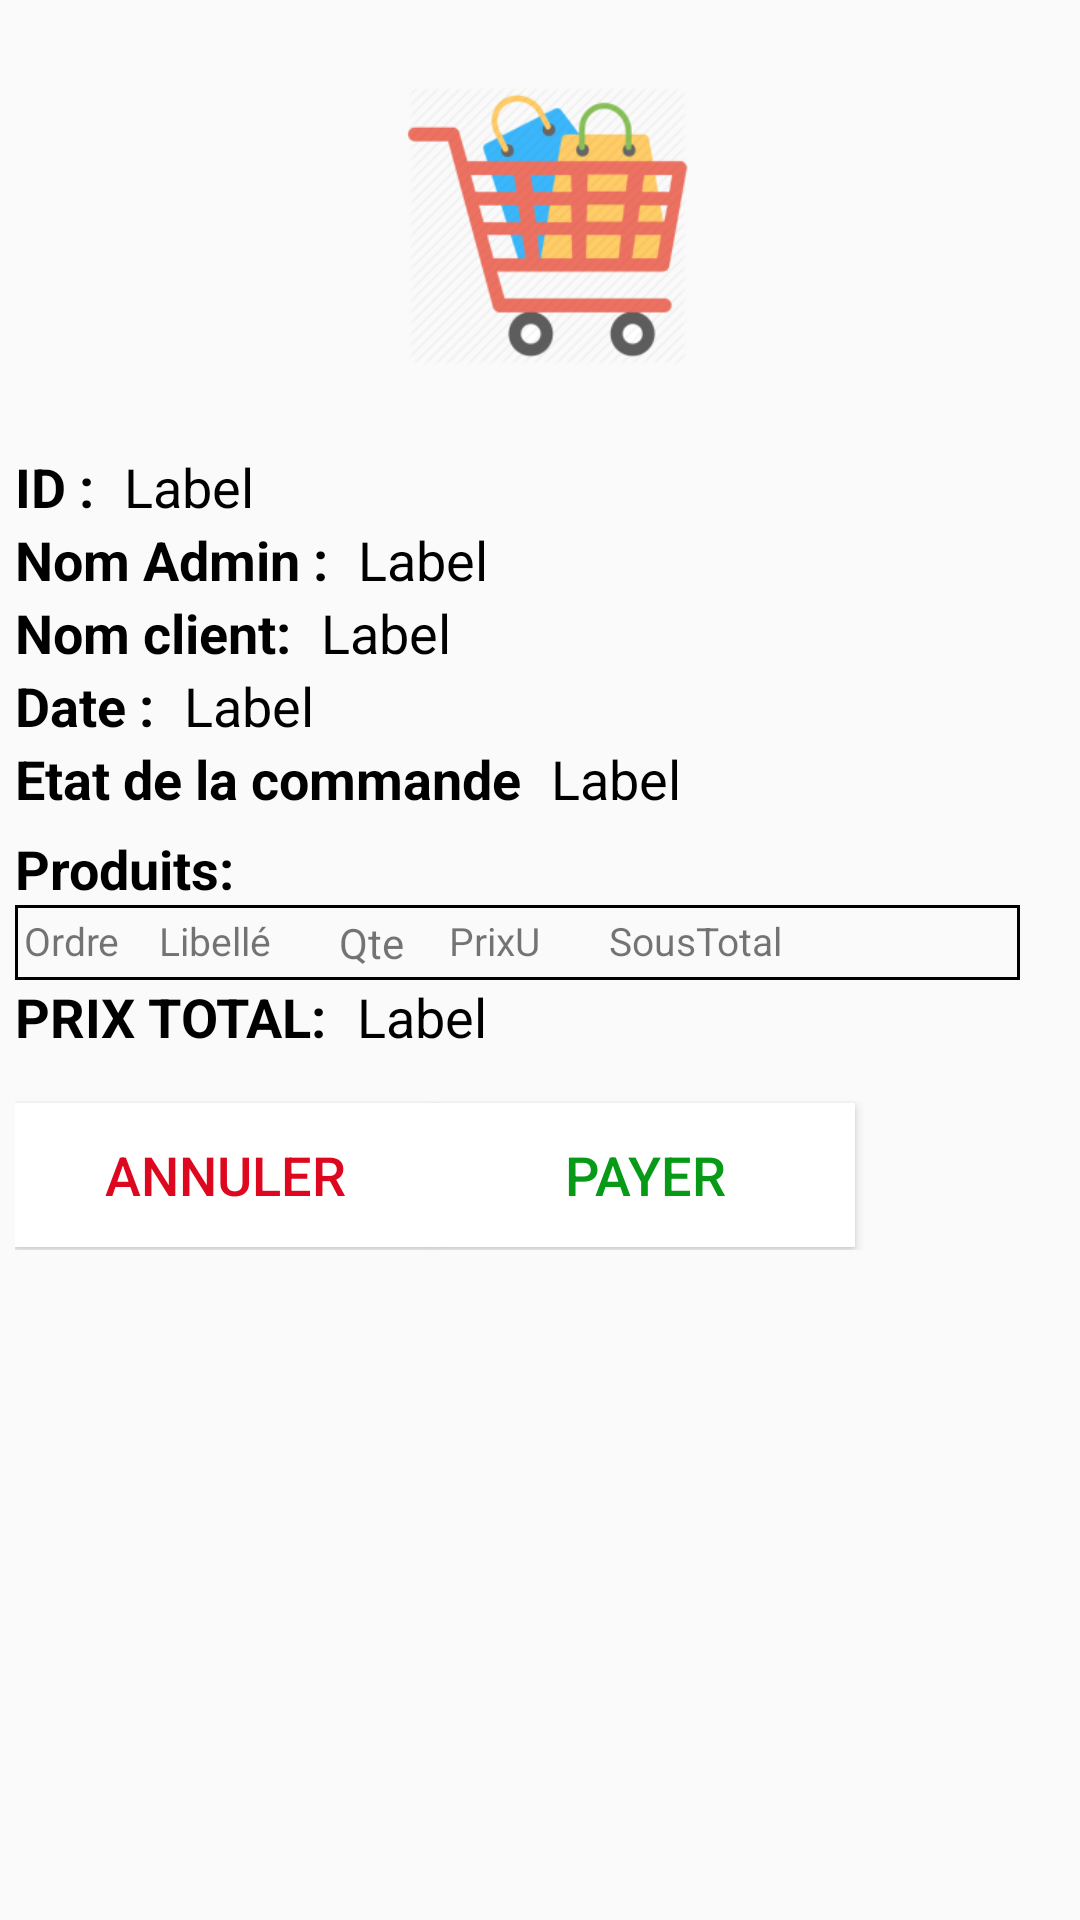

Icon bounding boxes for this 1080×1920 phone screenshot, format (x1, y1, x2, y2):
orders: (408, 94, 688, 357)
